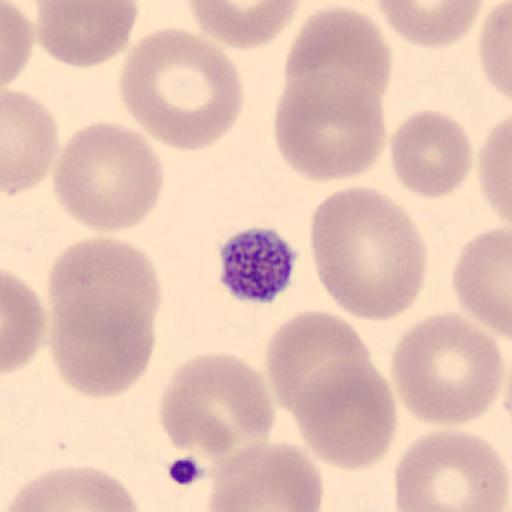Platelet: (215, 224, 301, 306)
RBC: (47, 234, 161, 396), (309, 184, 428, 322), (119, 26, 245, 152), (389, 310, 506, 428), (158, 350, 277, 462), (50, 120, 166, 234), (48, 236, 162, 350), (272, 70, 388, 182), (264, 308, 373, 420), (290, 359, 398, 472), (282, 4, 394, 112), (48, 287, 156, 398), (394, 429, 512, 512), (205, 440, 325, 512), (389, 107, 473, 200), (34, 1, 140, 68), (451, 226, 512, 336), (3, 464, 142, 512), (2, 88, 59, 198), (182, 0, 303, 51), (372, 0, 487, 49), (2, 268, 46, 374), (476, 114, 512, 226), (478, 0, 512, 102), (2, 0, 36, 89)
